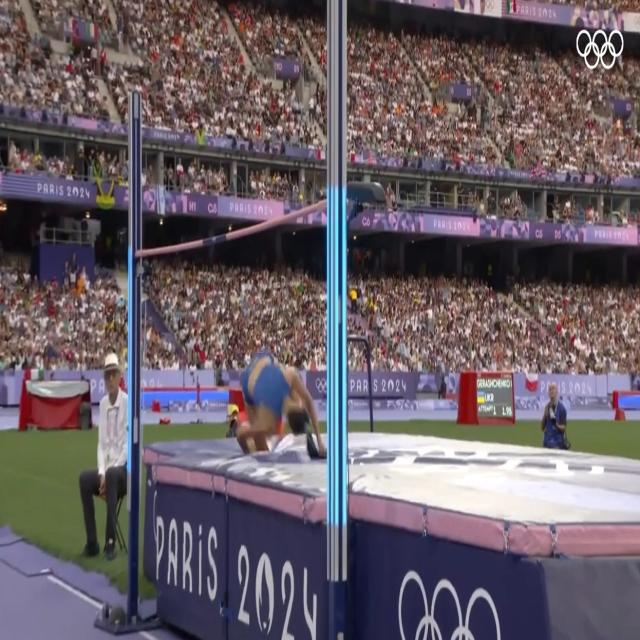land: (233, 357, 327, 468)
